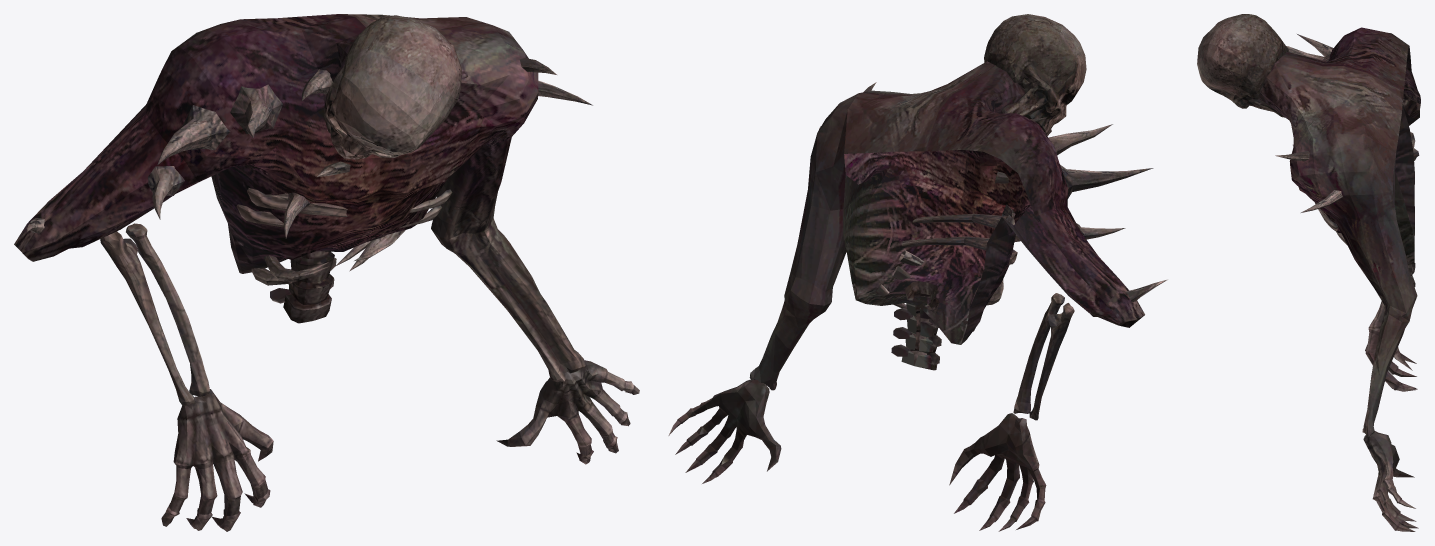
File: huodongfuben_655_kulou.obj
3 views of the same model, side by side, from view 1: azimuth 30°, elevation 25°; view 2: azimuth 150°, elevation 25°; view 3: azimuth 270°, elevation 25° (orthographic). The views are drawn at different scales.
Visible parts, largest first — view 1: huodongfuben_655_kulou; view 2: huodongfuben_655_kulou; view 3: huodongfuben_655_kulou.
Boxes of the visible parts, box(x1,y1,x2,y2) form: huodongfuben_655_kulou: box(14, 14, 639, 531); huodongfuben_655_kulou: box(668, 14, 1167, 531); huodongfuben_655_kulou: box(1197, 14, 1420, 531).
Size of the model in its own units: 322 by 293 by 145.
1 material, 1 textured.
